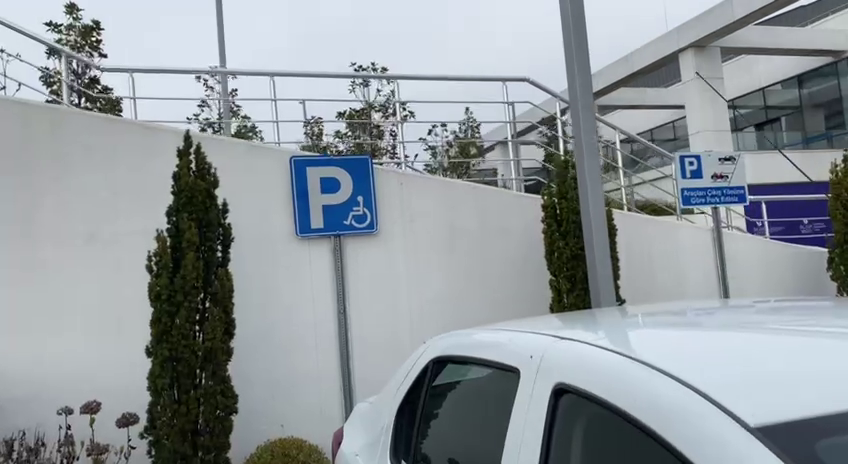parking: (290, 153, 380, 239), (678, 153, 703, 182)
